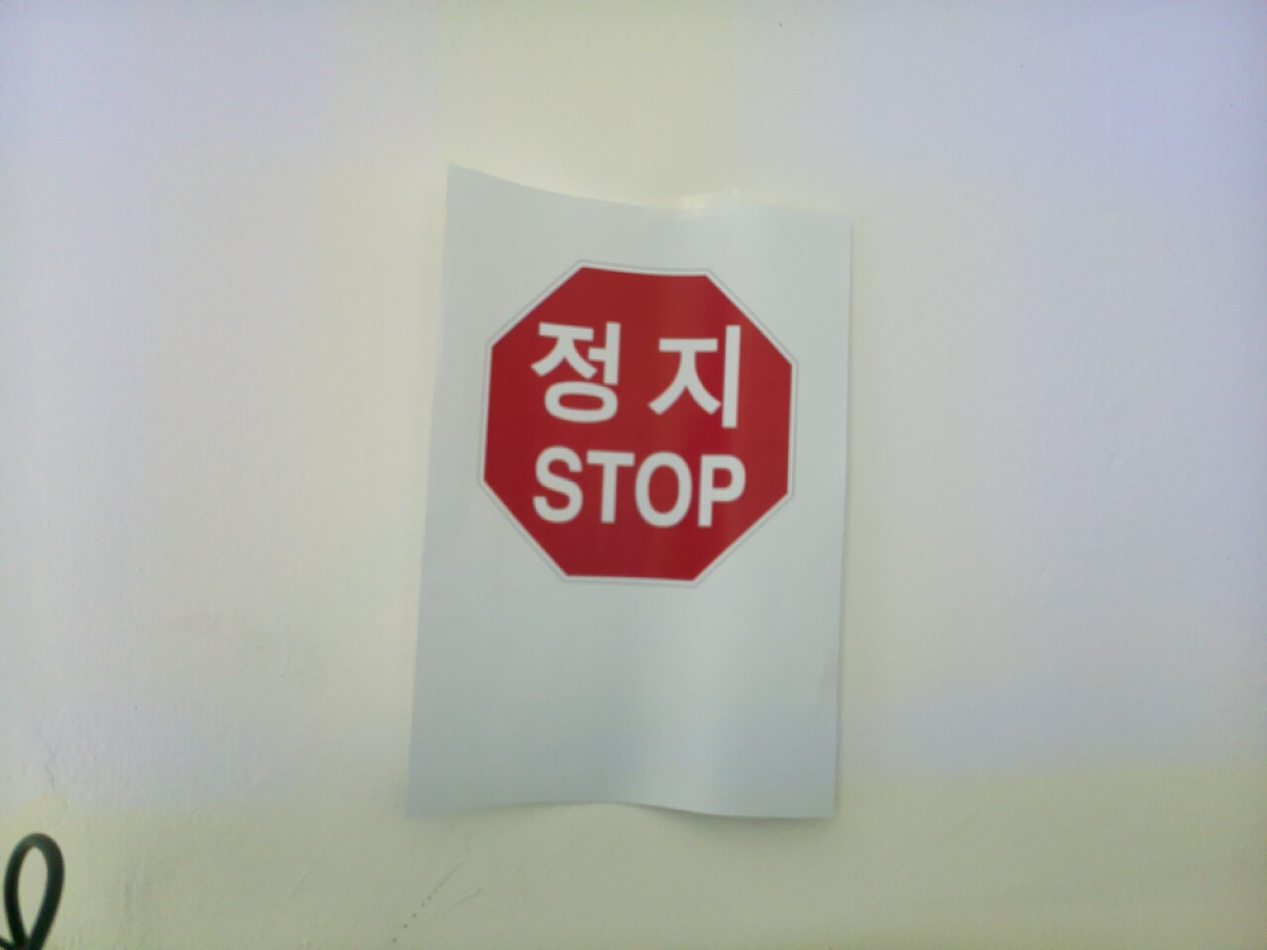stop: (474, 257, 802, 591)
